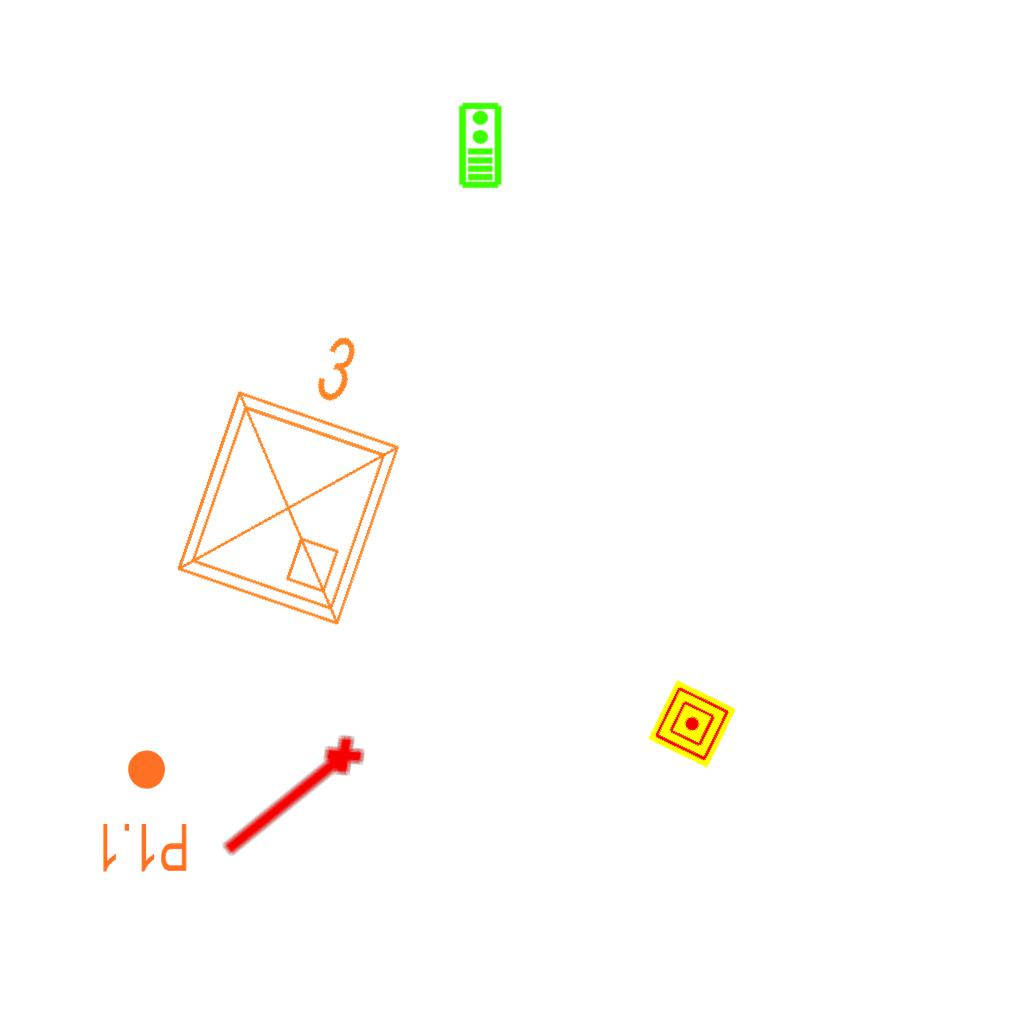ASR_Ansaugoeffnung: (210, 726, 376, 874)
Downlight_LED_Einbauleuchten_Flur: (97, 747, 190, 875)
Einbaudownlights_LED_Konferenzraeume: (150, 292, 446, 644)
Gegensprechanlage_mit_Video: (456, 101, 503, 189)
NAM-Nichtautomatischer_Melder: (647, 679, 737, 769)
